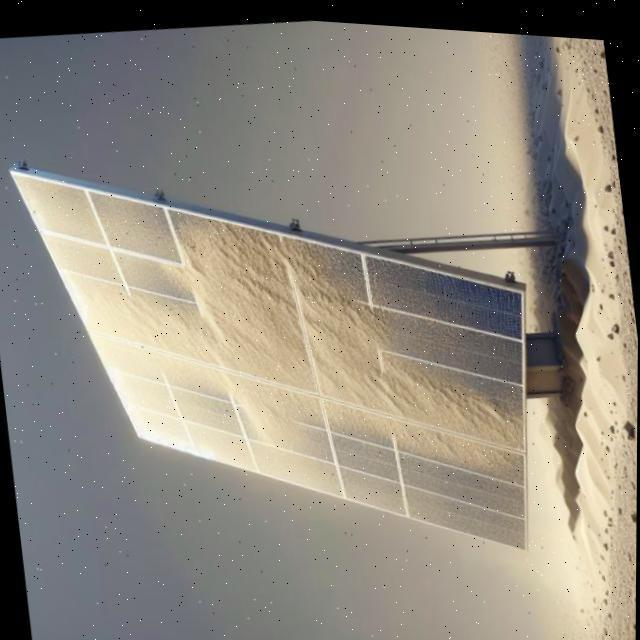Anomaly Solar Panel: (0, 174, 567, 542)
Surface Contaminant: (41, 134, 571, 593)
